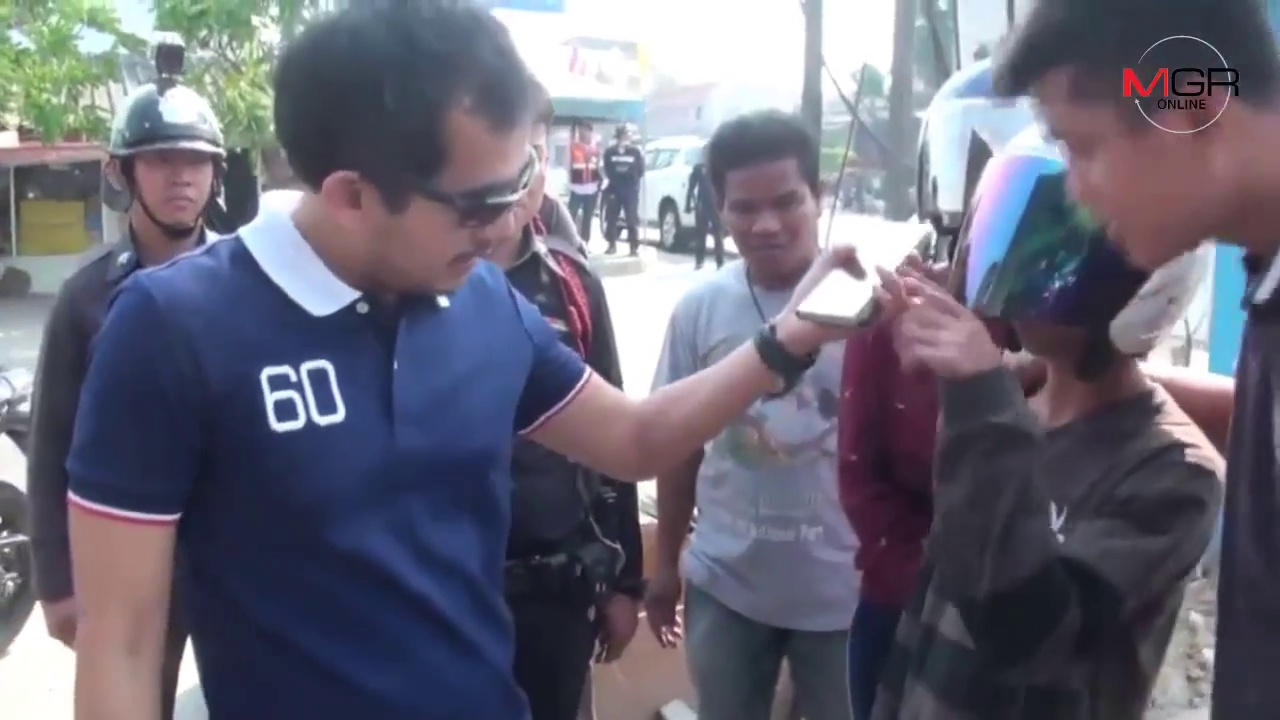helmet: (957, 121, 1183, 352), (921, 56, 1032, 224)
